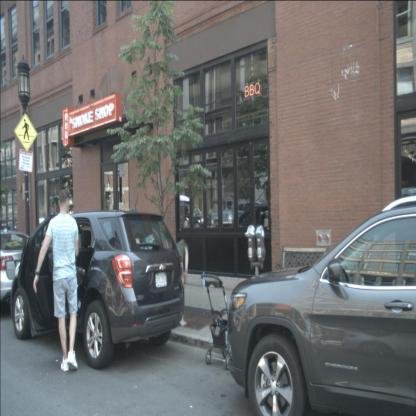human-pedestrian-adult: (33, 190, 80, 372), (172, 238, 190, 328)
vehicle-car: (227, 204, 416, 415), (10, 209, 185, 370), (224, 203, 298, 253), (0, 229, 41, 315), (231, 198, 279, 238), (158, 200, 209, 234), (209, 197, 250, 230)
